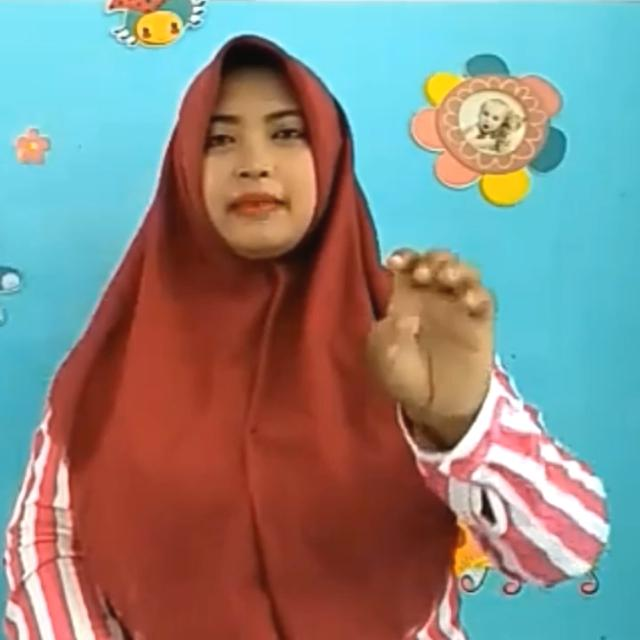E: (370, 241, 500, 414)
